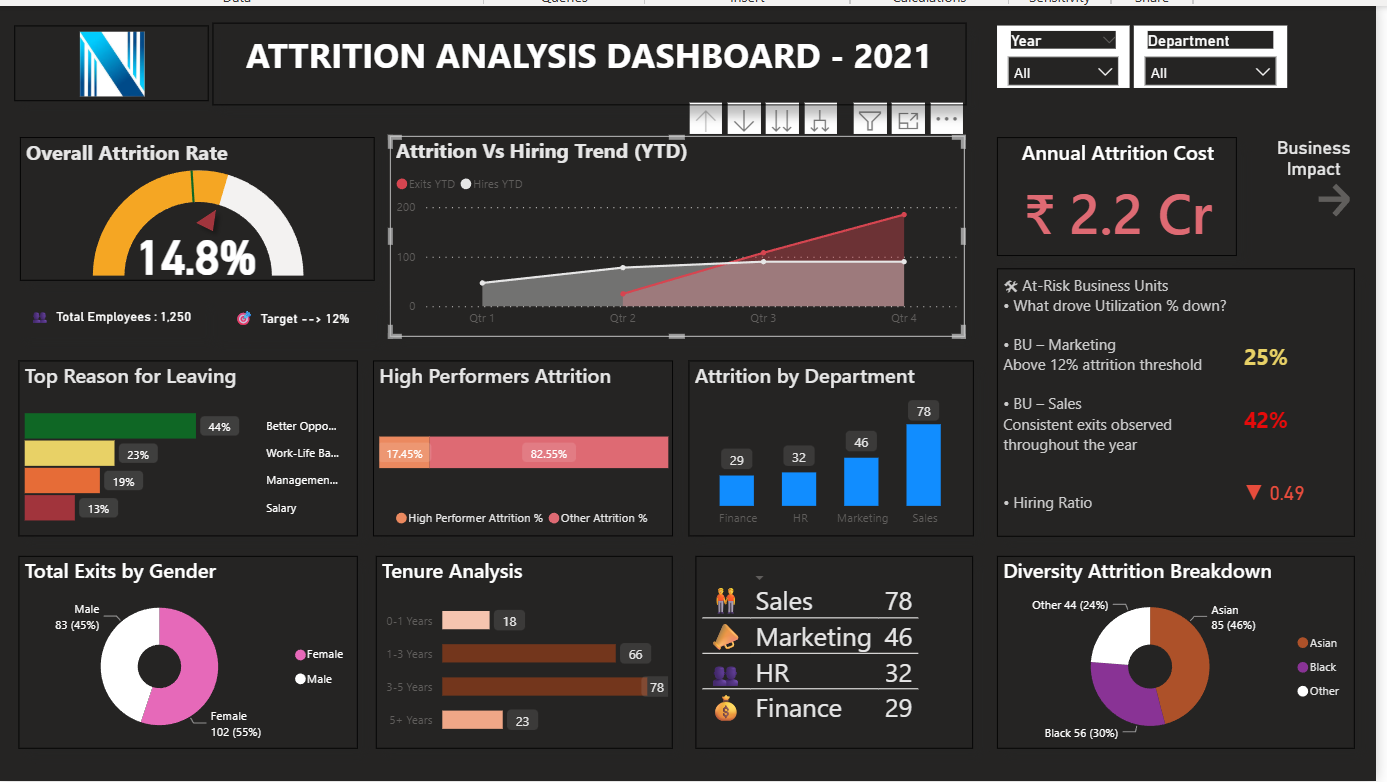

The page's visual inventory and layout, read from the dashboard file:
{"tool":"powerbi","page":{"name":"Attrition Overview","canvas":[1280,720],"ordinal":0},"visuals":[{"type":"textbox","box":[197.9,18,700.5,72.6],"z":0},{"type":"card","title":"Annual Attrition Cost","fields":{"Values":["Measures_Table.Cost of Attrition Label"]},"box":[927.6,121.9,223.1,110.3],"z":0,"group":"g4"},{"type":"barChart","title":"Top Reason for Leaving","fields":{"Category":["FactEmployee.ReasonForLeaving"],"Y":["Measures_Table.Reason Attrition %"]},"box":[18.3,329.5,315.4,163.3],"z":0,"group":"g2"},{"type":"pieChart","fields":{"Y":["Measures_Table.Total Exits"],"Category":["FactEmployee.Gender"]},"box":[18.3,511.1,315.4,178.8],"z":0,"group":"g3"},{"type":"image","box":[13.7,18,180.3,70.1],"z":1000,"group":"g5"},{"type":"actionButton","title":"Business Impact","box":[1184.5,121.9,75.2,77.8],"z":1000,"group":"g4"},{"type":"gauge","title":"Overall Attrition Rate","fields":{"Y":["Measures_Table.Attrition Rate %"],"TargetValue":["Measures_Table.Attrition Target %"],"MaxValue":["Measures_Table.Max Target %"],"MinValue":["Measures_Table.Min Target %"]},"box":[18.3,122.1,329.8,133],"z":1000,"group":"g1"},{"type":"clusteredColumnChart","title":"Attrition by Department","fields":{"Category":["FactEmployee.Department"],"Y":["Measures_Table.Exits YTD"]},"box":[640.7,329.5,264.7,163.3],"z":1000,"group":"g2"},{"type":"clusteredBarChart","title":"Tenure Analysis","fields":{"Category":["FactEmployee.TenureBucket"],"Y":["Measures_Table.Exits YTD"]},"box":[350.6,511.1,276,178.8],"z":1000,"group":"g3"},{"type":"shape","box":[198.5,15.6,700.5,76.5],"z":2000,"group":"g5"},{"type":"slicer","fields":{"Values":["DateTable.Year"]},"box":[927.6,18.2,123.2,58.4],"z":2000},{"type":"textbox","box":[927.6,243.8,332.1,249.1],"z":2000,"group":"g4"},{"type":"card","fields":{"Values":["Measures_Table.Total Employees KPI"]},"box":[15.3,272.9,176.1,34.9],"z":2000,"group":"g1"},{"type":"hundredPercentStackedBarChart","title":"High Performers Attrition","fields":{"Y":["Measures_Table.High Performer Attrition %","Measures_Table.Other Attrition %"]},"box":[348.4,330.1,278.8,163.3],"z":2000,"group":"g2"},{"type":"tableEx","title":"Exits","fields":{"Values":["FactEmployee.Department Icon Only","FactEmployee.Department","Measures_Table.Total Exits"]},"box":[647.3,511.1,258.2,179],"z":2000,"group":"g3"},{"type":"slicer","fields":{"Values":["FactEmployee.Department"]},"box":[1054.7,18.2,142.7,58.4],"z":3000},{"type":"card","fields":{"Values":["Measures_Table.Attrition Target KPI"]},"box":[194.4,271.7,155.3,38.2],"z":3000,"group":"g1"},{"type":"areaChart","title":"Attrition Vs Hiring Trend (YTD)","fields":{"Y":["Measures_Table.Exits YTD","Measures_Table.Hires YTD"],"Category":["DateTable.Date.Variation.Date Hierarchy.Quarter","DateTable.Date.Variation.Date Hierarchy.Month"]},"box":[363.2,120.6,534.5,186.8],"z":5000},{"type":"donutChart","title":"Diversity Attrition Breakdown","fields":{"Category":["FactEmployee.Ethnicity"],"Y":["Measures_Table.Diversity Exits"]},"box":[927.6,511.1,332.1,179],"z":6000},{"type":"group","id":"g1","title":"Group 1","box":[13.7,120.5,336,189.4],"z":7000,"group":"g6"},{"type":"card","fields":{"Values":["Measures_Table.Attrition Rate %"]},"box":[114.5,200.4,137.7,59],"z":7000},{"type":"card","fields":{"Values":["Measures_Table.Hire Ratio KPI"]},"box":[1126.4,430.9,117.3,44.8],"z":11000},{"type":"card","fields":{"Values":["Measures_Table.Department Attrition %"]},"box":[1126.4,360.5,102.4,51.2],"z":12000},{"type":"card","fields":{"Values":["Measures_Table.Department Attrition %"]},"box":[1125.5,309,102.3,37.6],"z":13000},{"type":"group","id":"g2","title":"Group 3","box":[18.3,329.5,887.1,164],"z":14000},{"type":"group","id":"g3","title":"Group 4","box":[18.3,511.1,887.2,179],"z":15000},{"type":"group","id":"g4","title":"Group 2","box":[927.6,121.9,332.1,371],"z":16000},{"type":"group","id":"g5","title":"Group 5","box":[13.7,15.6,885.3,76.5],"z":17000},{"type":"group","id":"g6","title":"Group 6","box":[13.7,120.5,336,189.4],"z":18000},{"type":"shape","box":[173,178,37,43],"z":18005,"group":"g6"}]}

Visuals, with their boxes on the page's 1280x720 design canvas (x1, y1, x2, y2). These are canvas units, not pixel positions in the 1387x782 screenshot, which may show the page scaled, cropped or inside an application window:
textbox: [left=198, top=18, right=898, bottom=91]
"Annual Attrition Cost" card: [left=928, top=122, right=1151, bottom=232]
"Top Reason for Leaving" barChart: [left=18, top=330, right=334, bottom=493]
pieChart - Measures_Table.Total Exits x FactEmployee.Gender: [left=18, top=511, right=334, bottom=690]
image: [left=14, top=18, right=194, bottom=88]
"Business Impact" actionButton: [left=1184, top=122, right=1260, bottom=200]
"Overall Attrition Rate" gauge: [left=18, top=122, right=348, bottom=255]
"Attrition by Department" clusteredColumnChart: [left=641, top=330, right=905, bottom=493]
"Tenure Analysis" clusteredBarChart: [left=351, top=511, right=627, bottom=690]
shape: [left=198, top=16, right=899, bottom=92]
slicer - DateTable.Year: [left=928, top=18, right=1051, bottom=77]
textbox: [left=928, top=244, right=1260, bottom=493]
card - Measures_Table.Total Employees KPI: [left=15, top=273, right=191, bottom=308]
"High Performers Attrition" hundredPercentStackedBarChart: [left=348, top=330, right=627, bottom=493]
"Exits" tableEx: [left=647, top=511, right=906, bottom=690]
slicer - FactEmployee.Department: [left=1055, top=18, right=1197, bottom=77]
card - Measures_Table.Attrition Target KPI: [left=194, top=272, right=350, bottom=310]
"Attrition Vs Hiring Trend (YTD)" areaChart: [left=363, top=121, right=898, bottom=307]
"Diversity Attrition Breakdown" donutChart: [left=928, top=511, right=1260, bottom=690]
"Group 1" group: [left=14, top=120, right=350, bottom=310]
card - Measures_Table.Attrition Rate %: [left=114, top=200, right=252, bottom=259]
card - Measures_Table.Hire Ratio KPI: [left=1126, top=431, right=1244, bottom=476]
card - Measures_Table.Department Attrition %: [left=1126, top=360, right=1229, bottom=412]
card - Measures_Table.Department Attrition %: [left=1126, top=309, right=1228, bottom=347]
"Group 3" group: [left=18, top=330, right=905, bottom=494]
"Group 4" group: [left=18, top=511, right=906, bottom=690]
"Group 2" group: [left=928, top=122, right=1260, bottom=493]
"Group 5" group: [left=14, top=16, right=899, bottom=92]
"Group 6" group: [left=14, top=120, right=350, bottom=310]
shape: [left=173, top=178, right=210, bottom=221]
